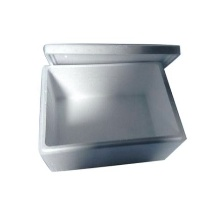foam_box: (29, 34, 193, 174)
